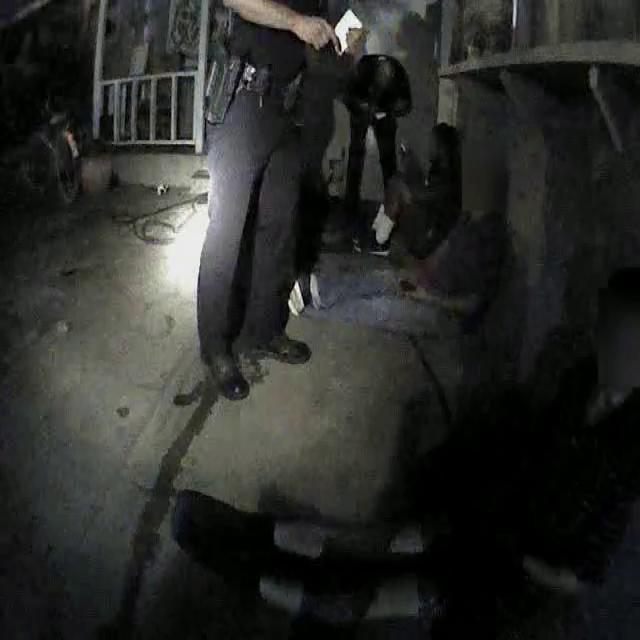gun: (195, 26, 253, 140)
